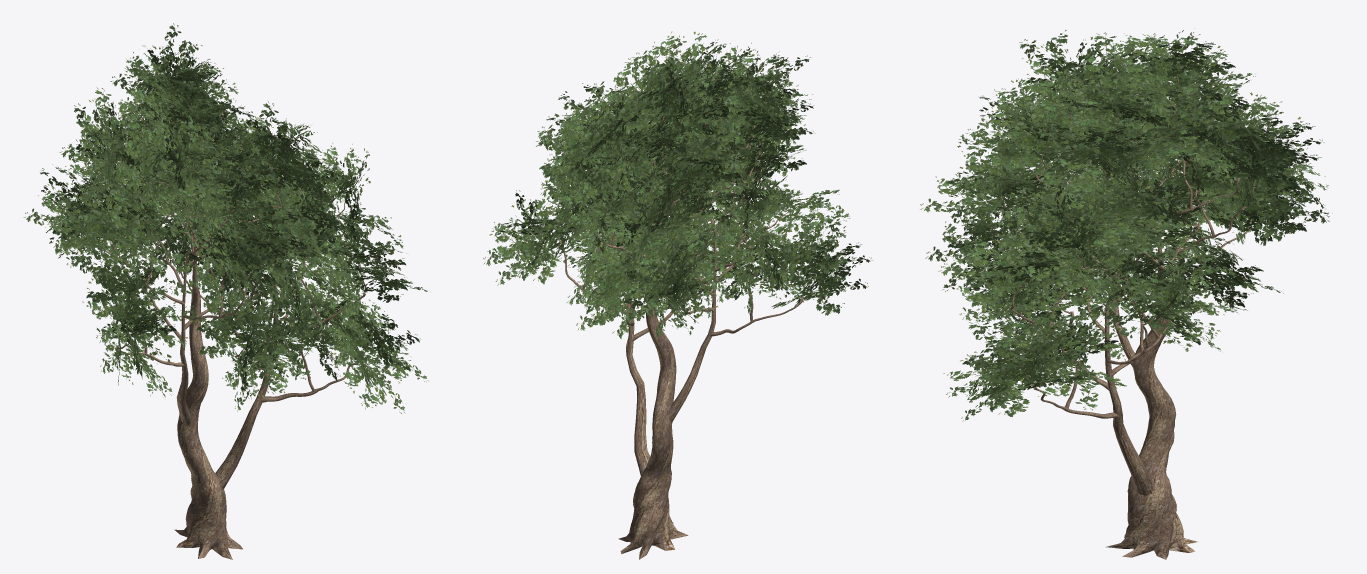
Rendered from tree.glb.
3 views of the same model, side by side, from view 1: azimuth 30°, elevation 25°; view 2: azimuth 150°, elevation 25°; view 3: azimuth 270°, elevation 25° (orthographic).
Visible parts, largest first — view 1: Leaves_4, 4_Trunk_0, Branches_4; view 2: Leaves_4, 4_Trunk_0, Branches_4; view 3: Leaves_4, 4_Trunk_0, Branches_4.
Boxes of the visible parts, x1,y1,x2,y2 form: Leaves_4: [23, 23, 428, 413]; 4_Trunk_0: [174, 289, 242, 559]; Branches_4: [86, 84, 369, 488]; Leaves_4: [483, 31, 872, 338]; 4_Trunk_0: [618, 301, 688, 559]; Branches_4: [541, 97, 809, 475]; Leaves_4: [920, 30, 1332, 421]; 4_Trunk_0: [1106, 302, 1197, 559]; Branches_4: [998, 75, 1255, 495].
Bounding box in the file's own units: 9.21 × 13.77 × 10.72.
Materials: 2 (2 with a texture image).
